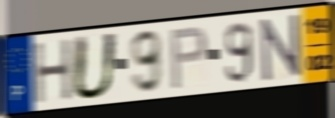9: (128, 28, 165, 96), (223, 20, 254, 84)
H: (32, 36, 74, 106)
N: (259, 12, 304, 85)
P: (169, 24, 210, 92)
U: (70, 31, 120, 103)
